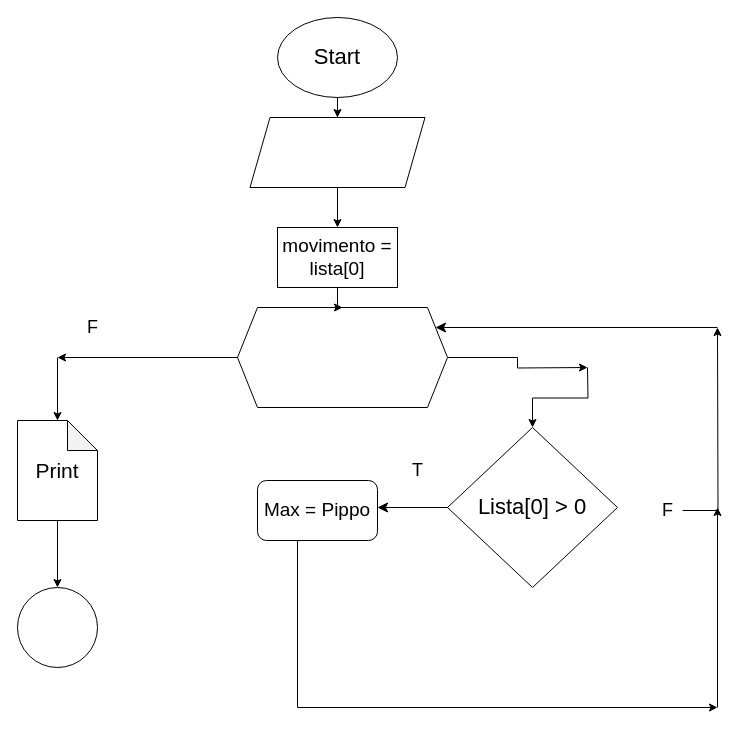
Image size: 745x733. Some labels were removed from this diagram. Each missing label, with the centre of its shape:
END: point 57,627
for pippo in lista: point 342,357
Lista di interi: point 337,152
